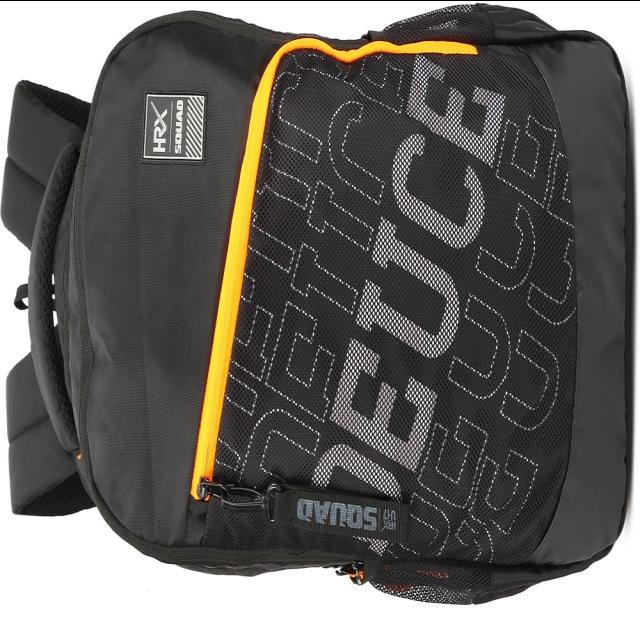backpack: (8, 5, 632, 606)
